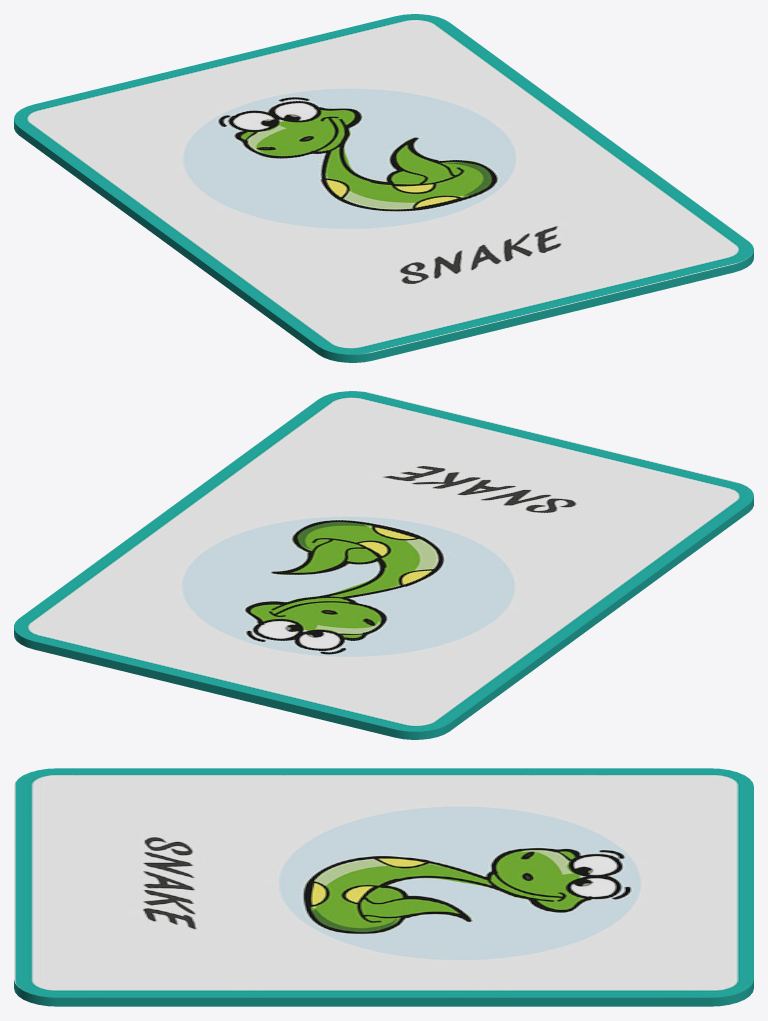
Rendered from carta memory_snake.fbx.
The picture shows the model from 3 angles, top to bottom: view 1: azimuth 30°, elevation 25°; view 2: azimuth 150°, elevation 25°; view 3: azimuth 270°, elevation 25°; orthographic projection. The views are drawn at different scales.
Visible parts, largest first — view 1: pCube1; view 2: pCube1; view 3: pCube1.
Part boxes in pixels (x1,y1,x2,y2): pCube1: (14,14,753,362); pCube1: (14,391,753,739); pCube1: (14,768,753,1006).
Bounding box in the file's own units: 5.5 × 0.1 × 7.5.
1 material, 1 textured.
